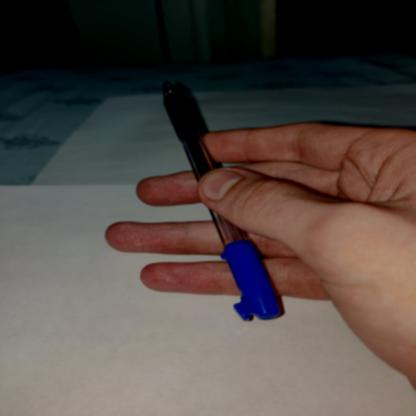pen: (133, 73, 281, 320)
